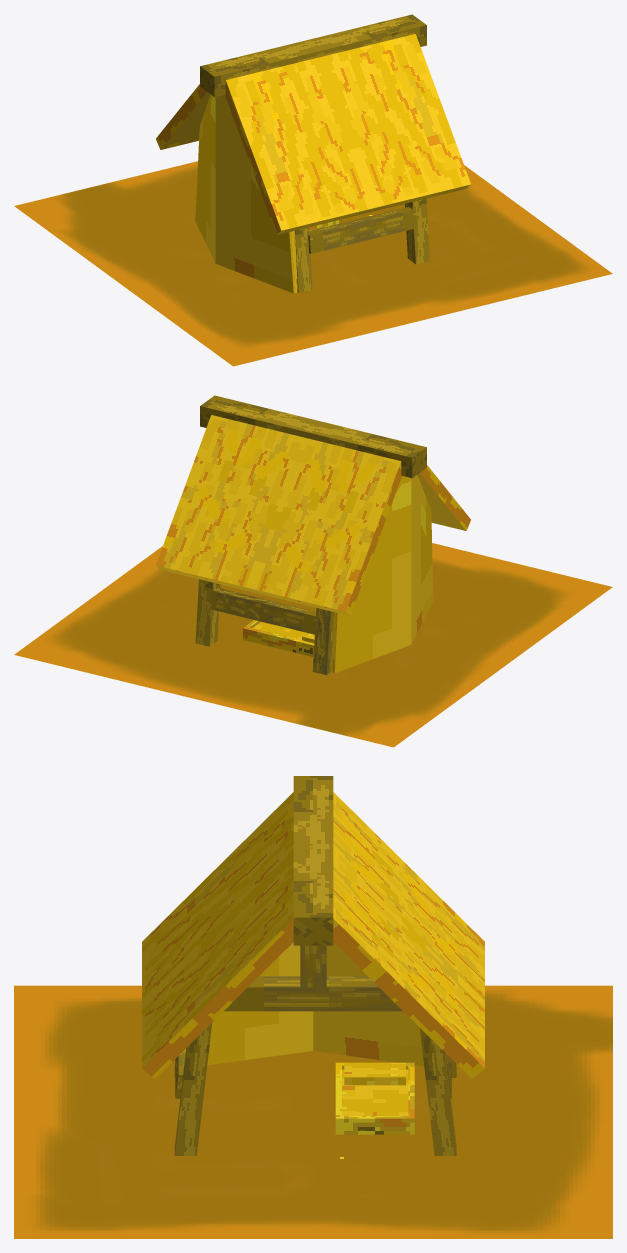
The model's file is dom.gltf.
3 renders of one model, top to bottom at view 1: azimuth 30°, elevation 25°; view 2: azimuth 150°, elevation 25°; view 3: azimuth 270°, elevation 25°, orthographic. The views are drawn at different scales.
Visible parts, largest first — view 1: plane, cube (×3), cuboid, cylinder (×4), balka 2, balka 4; view 2: plane, cube (×3), cuboid (×2), cylinder (×4), balka 1 (×2); view 3: plane, cube (×4), cuboid (×3), cylinder (×4), balka 2, balka 1.
Boxes of the visible parts, bbox=[...] form: plane: bbox=[14, 161, 612, 366]; cube (×3): bbox=[156, 34, 470, 234]; cuboid: bbox=[195, 94, 297, 293]; cylinder (×4): bbox=[200, 14, 426, 253]; balka 2: bbox=[405, 199, 429, 264]; balka 4: bbox=[295, 227, 312, 292]; plane: bbox=[14, 543, 612, 747]; cube (×3): bbox=[156, 415, 470, 615]; cuboid (×2): bbox=[243, 475, 433, 673]; cylinder (×4): bbox=[200, 395, 426, 634]; balka 1 (×2): bbox=[195, 579, 333, 675]; plane: bbox=[14, 985, 612, 1238]; cube (×4): bbox=[142, 792, 484, 1078]; cuboid (×3): bbox=[207, 942, 423, 1134]; cylinder (×4): bbox=[224, 776, 402, 1011]; balka 2: bbox=[174, 1023, 212, 1155]; balka 1: bbox=[419, 1028, 456, 1155].
Bounding box in the file's own units: 4.25 × 2.08 × 4.25.
Materials: 6 (5 with a texture image).
